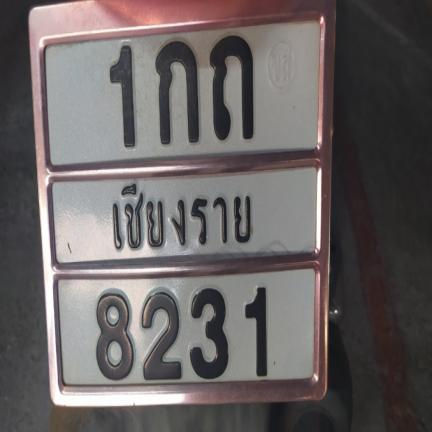1: (100, 42, 148, 154), (238, 283, 271, 382)
2: (141, 285, 183, 380)
3: (188, 283, 231, 380)
8: (91, 284, 136, 382)
A01: (153, 37, 203, 149)
A22: (208, 33, 258, 141)
CRI: (102, 177, 257, 254)
